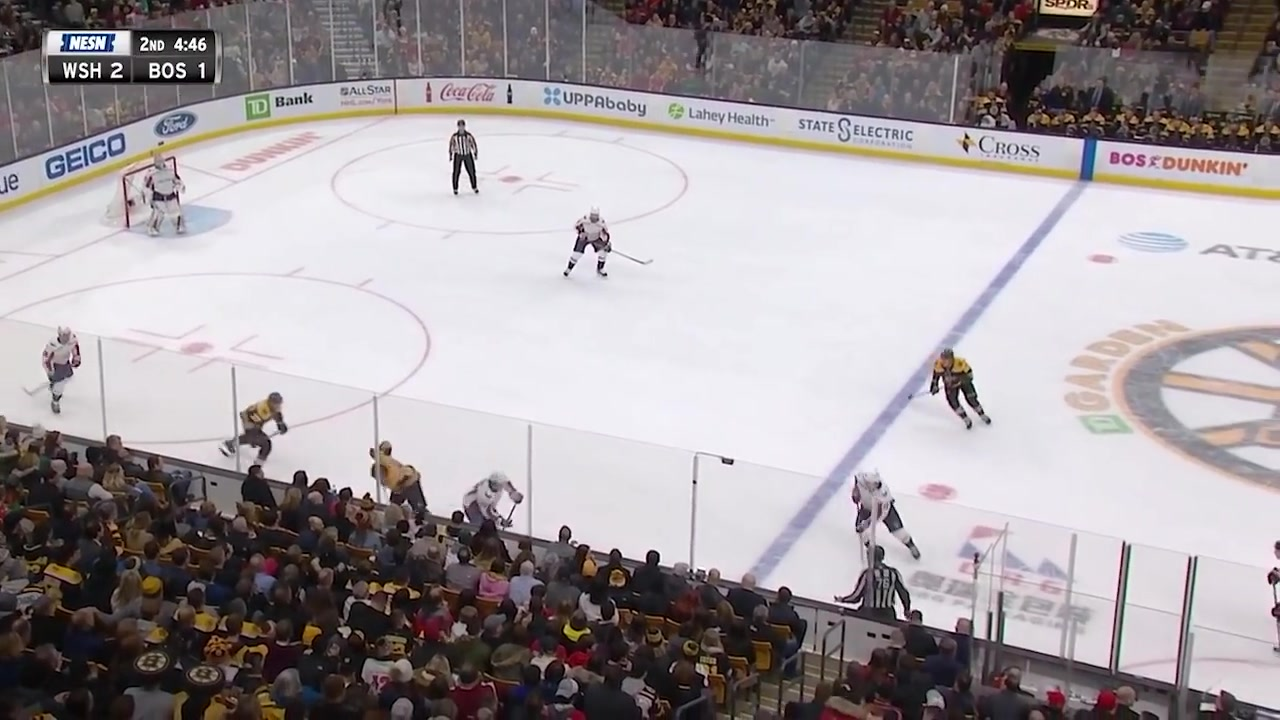geico: (39, 136, 137, 182)
